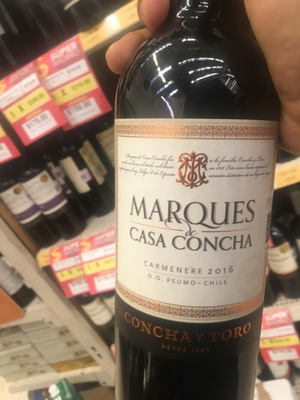marques de casa concha carmenere: (108, 16, 279, 380)
